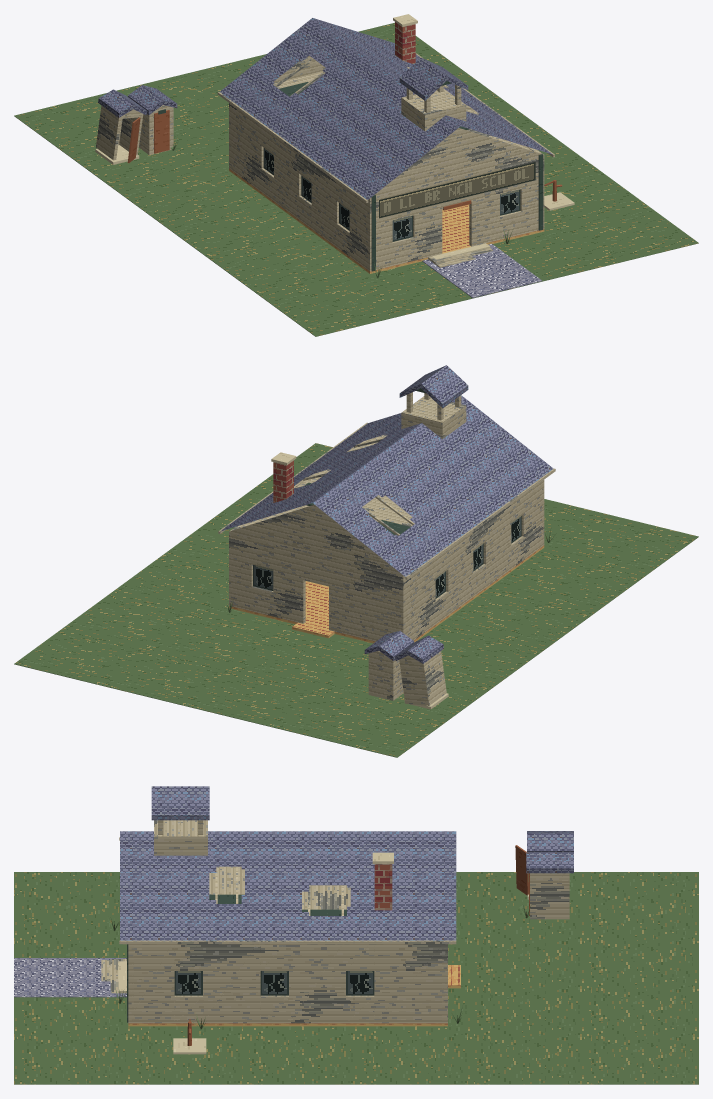
The model's file is mill-branch-abandoned-far.glb.
3 renders of one model, top to bottom at view 1: azimuth 30°, elevation 25°; view 2: azimuth 150°, elevation 25°; view 3: azimuth 270°, elevation 25°, orthographic. The views are drawn at different scales.
Parts seen in each view (by area): view 1: lot, building_shell, sign_name, Leaning outhouse; view 2: lot, building_shell, Leaning outhouse, fixed_interior; view 3: lot, building_shell, fixed_interior, Leaning outhouse, Hanging door leaf.
Boxes of the visible parts, bbox=[...] form: lot: bbox=[14, 22, 698, 336]; building_shell: bbox=[217, 14, 554, 273]; sign_name: bbox=[379, 162, 535, 218]; Leaning outhouse: bbox=[96, 89, 146, 160]; lot: bbox=[14, 443, 698, 757]; building_shell: bbox=[218, 365, 555, 643]; Leaning outhouse: bbox=[395, 635, 446, 705]; fixed_interior: bbox=[241, 435, 412, 527]; lot: bbox=[14, 852, 698, 1084]; building_shell: bbox=[101, 786, 460, 1026]; fixed_interior: bbox=[209, 866, 350, 909]; Leaning outhouse: bbox=[527, 831, 573, 852]; Hanging door leaf: bbox=[515, 845, 528, 895].
Size of what is drawn, in the model's own units: 22 by 9.3 by 30.
11 materials, 11 textured.
